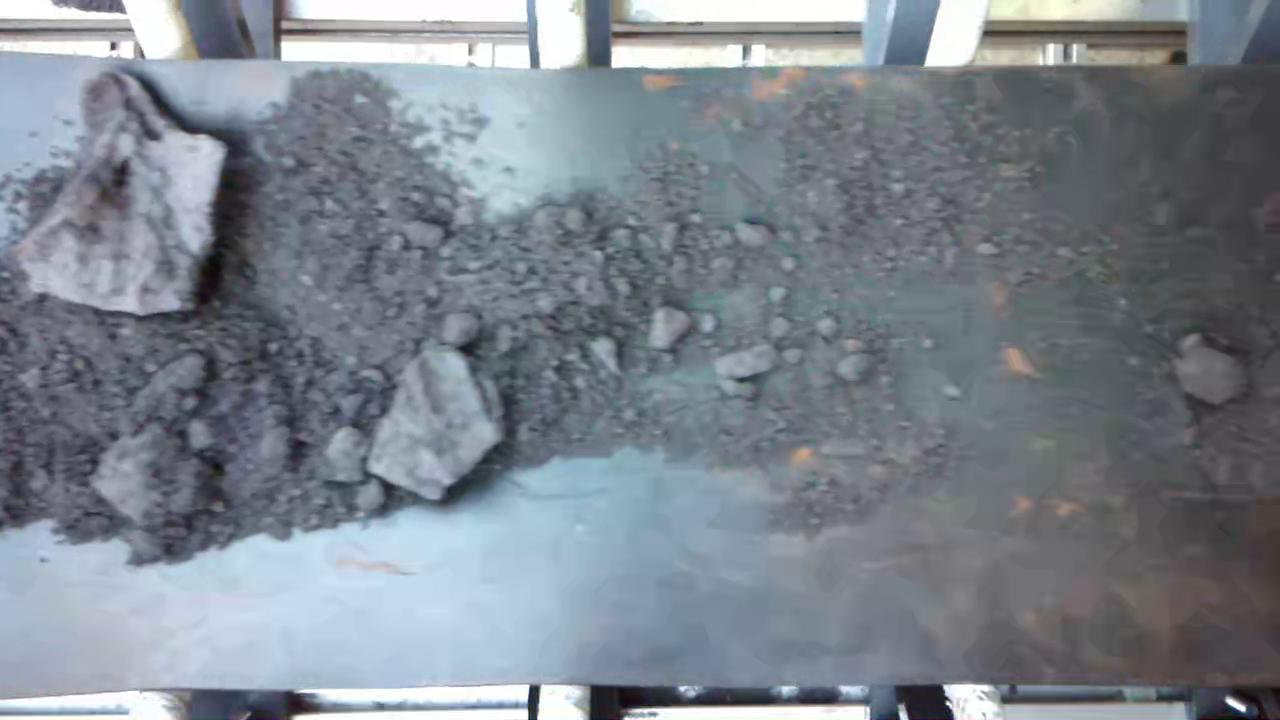conveyor: (1, 75, 1280, 684)
